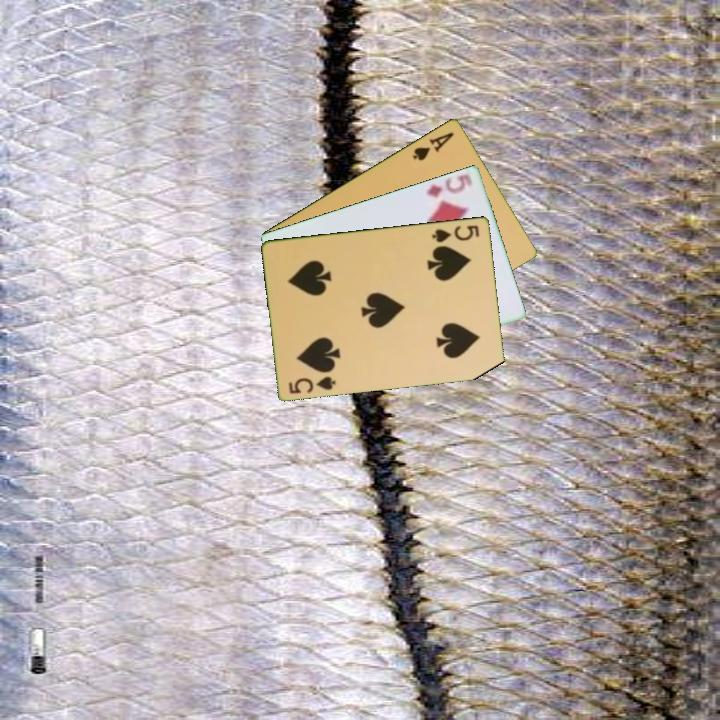5d: (422, 170, 475, 200)
5s: (285, 372, 339, 396), (429, 221, 482, 245)
As: (409, 128, 457, 163)
